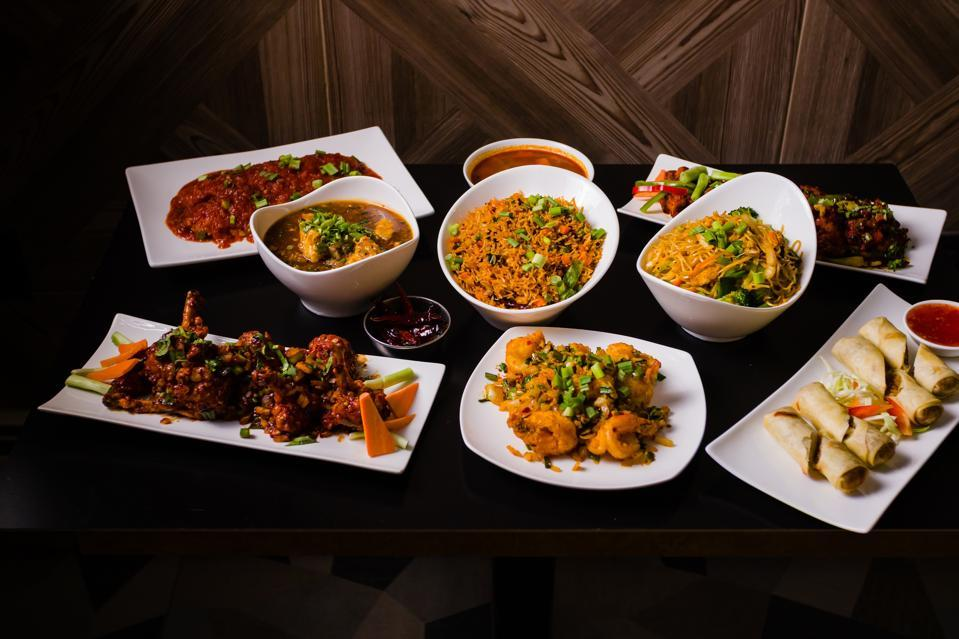Braised Crucian Carp: (702, 285, 958, 532), (38, 312, 435, 470), (457, 326, 703, 490), (635, 170, 813, 340), (436, 164, 614, 329), (247, 175, 418, 316)
